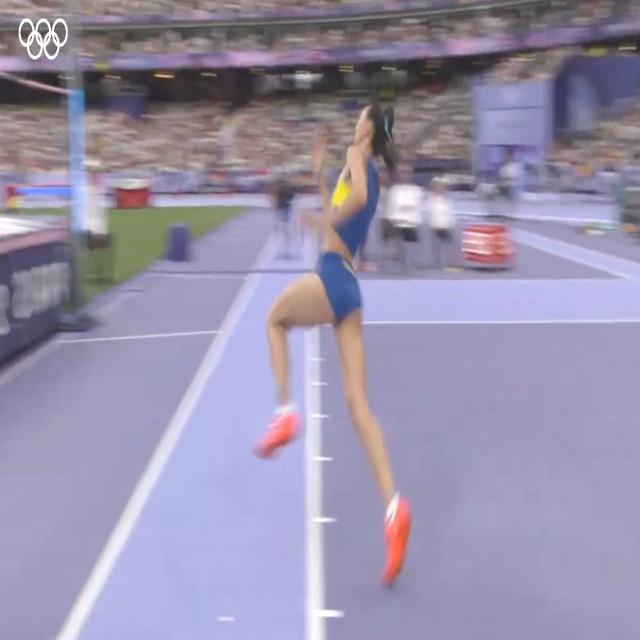run: (252, 109, 412, 594)
